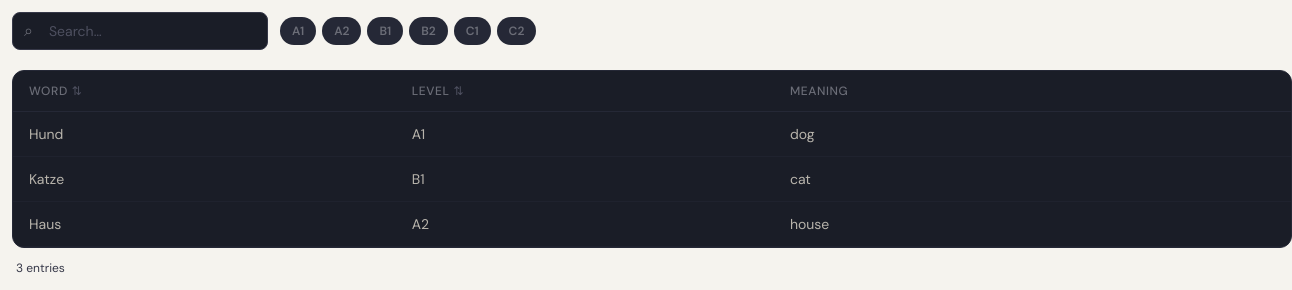
Test case: DataTable › level pill click filters by level
This screenshot has width=1292, height=290.
B1 pill should exist
Click the button "B1": (385, 31) [368,17,403,45]
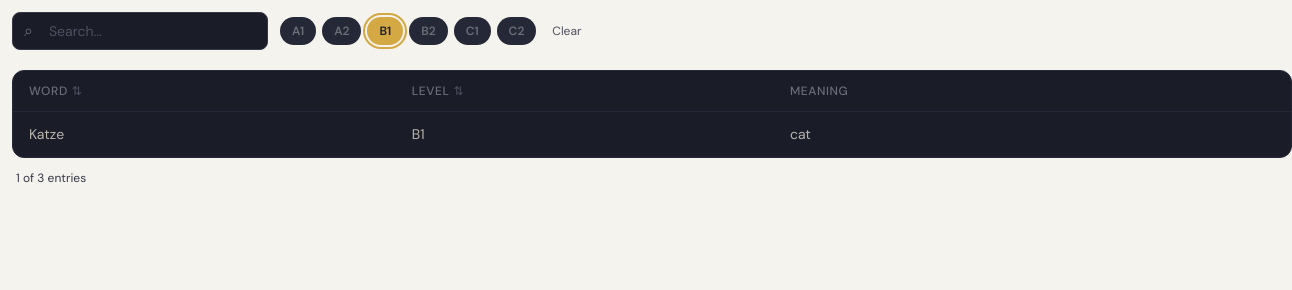
Expected: the text "Katze" is shown, [29,125,64,143]
Result: the text "Hund" is gone
Result: the text "Haus" is gone
